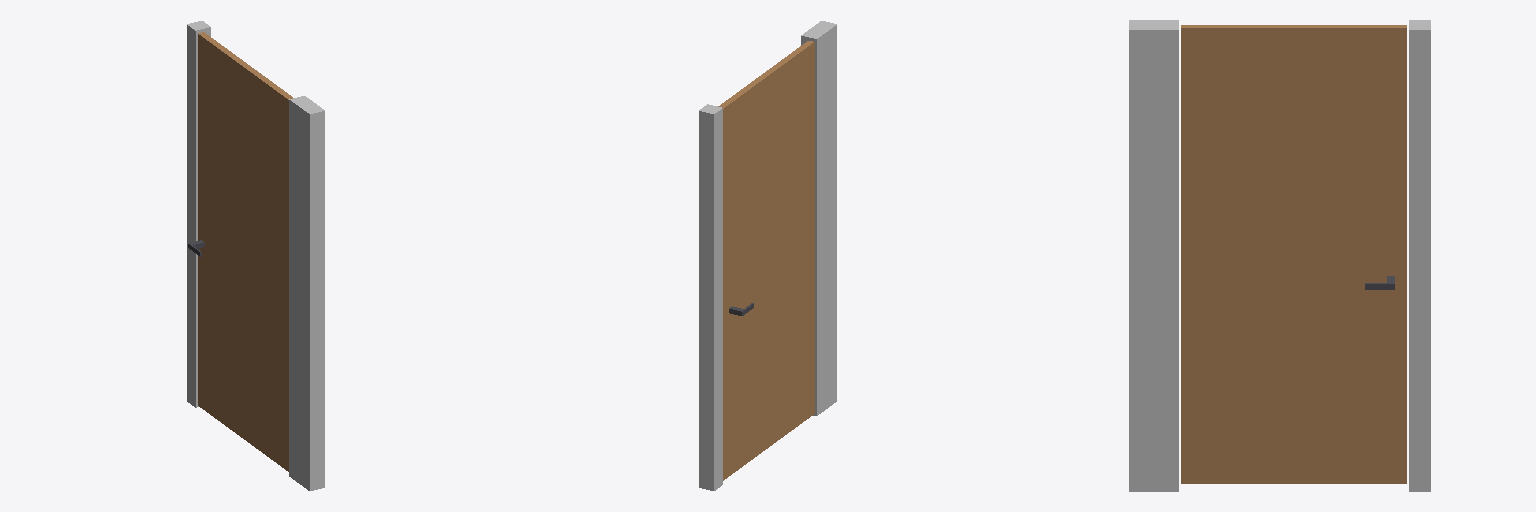
robot.urdf — door:
<?xml version="1.0"?>
<robot name="door">

  <material name="wallwhite"> 
    <color rgba="0.80 0.80 0.80 1"/>
  </material>
  <material name="stealgrey"> 
    <color rgba="0.35 0.35 0.38 1"/>
  </material>
  <material name="woodbrown"> 
    <color rgba="0.725 0.557 0.392 1"/>
  </material>

  <link name="Left_Jamb">
    <inertial>
      <origin xyz="0 -0.56515 1.029495" rpy="0 0 0"/>
      <mass value="17.8262"/>
      <inertia ixx="2.033342" ixy="0" ixz="0" iyy="2.017483" iyz="0" izz="0.023367"/>
    </inertial>
    <visual>
      <origin xyz="0 -0.56515 1.029495" rpy="0 0 0"/>
      <geometry>
        <box size="0.0889 0.2032 2.05899"/>
      </geometry>
      <material name="wallwhite"/>
    </visual>
    <collision>
      <origin xyz="0 -0.56515 1.029495" rpy="0 0 0"/>
      <geometry>
        <box size="0.0889 0.2032 2.05899"/>
      </geometry>
      <material name="wallwhite"/>
    </collision>
  </link>

  <joint name="Fixed_1" type="fixed">
    <parent link="Left_Jamb"/>
    <child link="Right_Jamb"/>
    <origin xyz="0 0 1.029495"/>
    <axis xyz="1 0 0"/>
  </joint>

  <link name="Right_Jamb">
    <inertial>
      <origin xyz="0 .508 0" rpy="0 0 0"/>
      <mass value="12.9"/>
      <inertia ixx="1.769722" ixy="0" ixz="0" iyy="1.769722" iyz="0" izz="0.006586"/>
    </inertial>
    <visual>
      <origin xyz="0 0.508 0" rpy="0 0 0"/>
      <geometry>
        <box size="0.0889 0.0889 2.05899"/>
      </geometry>
      <material name="wallwhite"/>
    </visual>
    <collision>
      <origin xyz="0 0.508 0" rpy="0 0 0"/>
      <geometry>
        <box size="0.0889 0.0889 2.05899"/>
      </geometry>
      <material name="wallwhite"/>
    </collision>
  </link>

  <joint name="hinge" type="revolute">
    <parent link="Left_Jamb"/>
    <child link="Door"/>
    <origin xyz="-0.041275 -0.460375 1.029495"/>
    <axis xyz="0 0 1"/>
    <limit effort="5" lower="0" upper="2.3562" velocity="2.0"/>
    <dynamics friction="1" damping="1"/>
  </joint>

  <link name="Door">
    <inertial>
      <origin xyz=".023812 0.460375 -0.000794" rpy="0 0 0"/>
      <mass value="3.63"/>
      <inertia ixx="1.501437" ixy="0" ixz="0" iyy="1.248965" iyz="0" izz="0.253210"/>
    </inertial>
    <visual>
      <origin xyz=".023812 0.460375 -0.000794" rpy="0 0 0"/>
      <geometry>
        <box size="0.03493 0.9144 2.032"/>
      </geometry>
      <material name="woodbrown"/>
    </visual>
    <collision>
      <origin xyz="0.023812 0.460375 -0.000794" rpy="0 0 0"/>
      <geometry>
        <box size="0.03493 0.9144 2.032"/>
      </geometry>
      <material name="woodbrown"/>
    </collision>
  </link>

  <joint name="handle_turn" type="revolute">
    <parent link="Door"/>
    <child link="Handle1"/>
    <origin xyz="0.079375 0.8509 -0.102394"/>
    <axis xyz="1 0 0"/>
    <limit effort="1" lower="0" upper="1.5708" velocity="1.0"/>
    <dynamics friction="0.1" damping="0.1"/>
  </joint>
  <force_element name="spring">
    <torsional_spring stiffness="1" rest_angle="0">
      <joint name="handle_turn"/>
    </torsional_spring>
  </force_element>

  <link name="Handle1">
    <inertial>
      <origin xyz="0 0 0" rpy="0 0 0"/>
      <mass value="0.68"/>
      <inertia ixx="0.000094" ixy="0" ixz="0" iyy="0.000366" iyz="0" izz="0.000386"/>
    </inertial>
    <visual>
      <origin xyz="0 0 0" rpy="0 0 0"/>
      <geometry>
        <box size="0.0762 0.03175 0.0254"/>
      </geometry>
      <material name="stealgrey"/>
    </visual>
    <collision>
      <origin xyz="0 0 0" rpy="0 0 0"/>
      <geometry>
        <box size="0.0762 0.03175 0.0254"/>
      </geometry>
      <material name="stealgrey"/>
    </collision>
    <visual>
      <origin xyz="-0.12065 0 0" rpy="0 0 0"/>
      <geometry>
        <box size="0.0762 0.03175 0.0254"/>
      </geometry>
      <material name="stealgrey"/>
    </visual>
    <collision>
      <origin xyz="-0.12065 0 0" rpy="0 0 0"/>
      <geometry>
        <box size="0.0762 0.03175 0.0254"/>
      </geometry>
      <material name="stealgrey"/>
    </collision>
  </link>

  <joint name="handle" type="fixed">
    <parent link="Handle1"/>
    <child link="Handle2"/>
    <origin xyz="0.0381 0 0"/>
    <axis xyz="1 0 0"/>
  </joint>

  <link name="Handle2">
    <inertial>
      <origin xyz="-0.004765 -0.0060325 0" rpy="0 0 0"/>
      <!-- <mass value="0.226"/>
      <inertia ixx="0.000207" ixy="0" ixz="0" iyy="0.000014" iyz="0" izz="0.000196"/> -->
      <mass value="0."/>
      <inertia ixx="0.000207" ixy="0" ixz="0" iyy="0.000014" iyz="0" izz="0.000196"/>
    </inertial>
    <visual>
      <origin xyz="-0.004765 -0.060325 0" rpy="0 0 0"/>
      <geometry>
        <box size="0.00953 0.0889 0.0254"/>
      </geometry>
      <material name="stealgrey"/>
    </visual>
    <collision>
      <origin xyz="-0.004765 -0.060325 0" rpy="0 0 0"/>
      <geometry>
        <box size="0.00953 0.0889 0.0254"/>
      </geometry>
      <material name="stealgrey"/>
    </collision>
    <visual>
      <origin xyz="-0.1920875 -0.060325 0" rpy="0 0 0"/>
      <geometry>
        <box size="0.00953 0.0889 0.0254"/>
      </geometry>
      <material name="stealgrey"/>
    </visual>
    <collision>
      <origin xyz="-0.1920875 -0.060325 0" rpy="0 0 0"/>
      <geometry>
        <box size="0.00953 0.0889 0.0254"/>
      </geometry>
      <material name="stealgrey"/>
    </collision>
  </link>

</robot>

--- What the picture shows (computed from the rendered views, not written in the file) ---
The picture shows the robot from 3 angles, left to right: view 1: azimuth 30°, elevation 25°; view 2: azimuth 150°, elevation 25°; view 3: azimuth 270°, elevation 25°; orthographic projection.
Model door with 5 links and 4 joints (2 revolute, 2 fixed), rooted at Left_Jamb, posed every joint at zero.
Links seen in each view (by area): view 1: Door, Left_Jamb, Right_Jamb; view 2: Door, Right_Jamb, Left_Jamb; view 3: Door, Left_Jamb, Right_Jamb.
Boxes of the visible links, box(x1,y1,x2,y2) form: Door: box(198, 32, 292, 471); Left_Jamb: box(289, 96, 324, 490); Right_Jamb: box(187, 21, 210, 407); Door: box(718, 41, 814, 480); Right_Jamb: box(699, 104, 722, 490); Left_Jamb: box(801, 21, 836, 415); Door: box(1181, 25, 1406, 483); Left_Jamb: box(1129, 20, 1178, 491); Right_Jamb: box(1409, 20, 1430, 491).
Size in the robot's own frame: 0.1969 by 1.22 by 2.06 metres.
Geometry: primitives only (box / cylinder / sphere), no mesh files.
